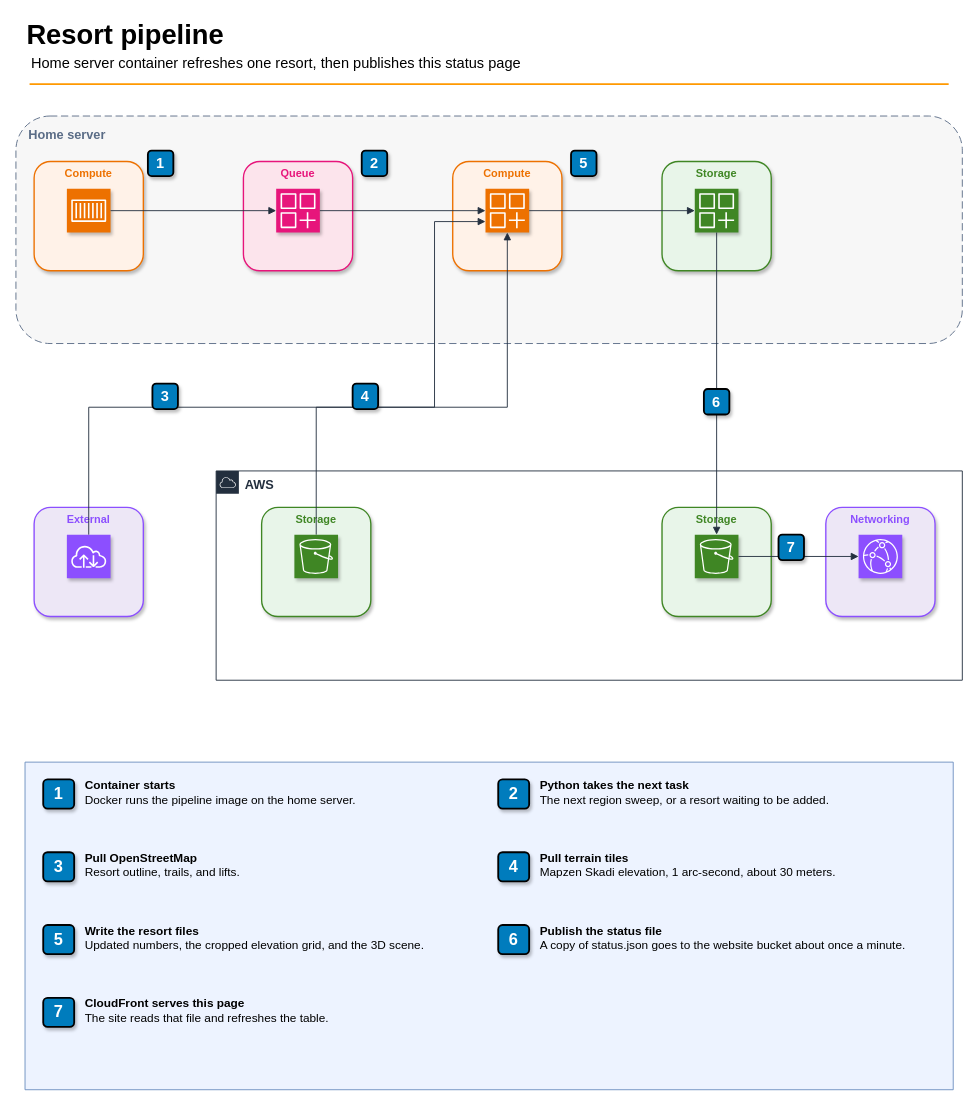
Some shapes in this 978 by 1106 pixel diagram are drawn without their labels. The centre of each missing label's shape, as x and y in pixels:
Atlas files stats, cropped DEM, 3D scene: the point at 717,211
CloudFront this status page: the point at 881,557
Docker pipeline image starts: the point at 89,211
Job list next region or new resort: the point at 298,211
Mapzen Skadi 1 arc-second terrain tiles: the point at 317,557
OpenStreetMap outline, trails, lifts: the point at 89,557
Python process the resort: the point at 508,211
Website bucket status.json: the point at 717,557
